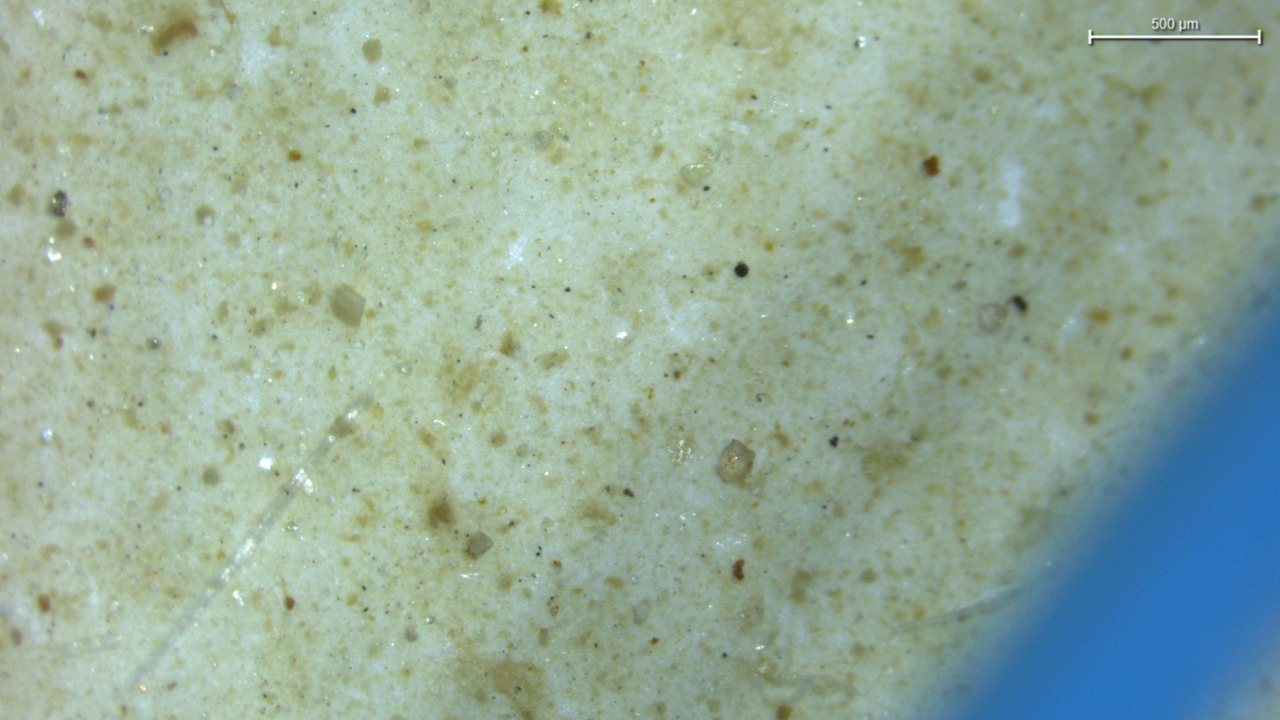microplastic_fragment: (715, 440, 755, 484), (331, 285, 365, 325)
